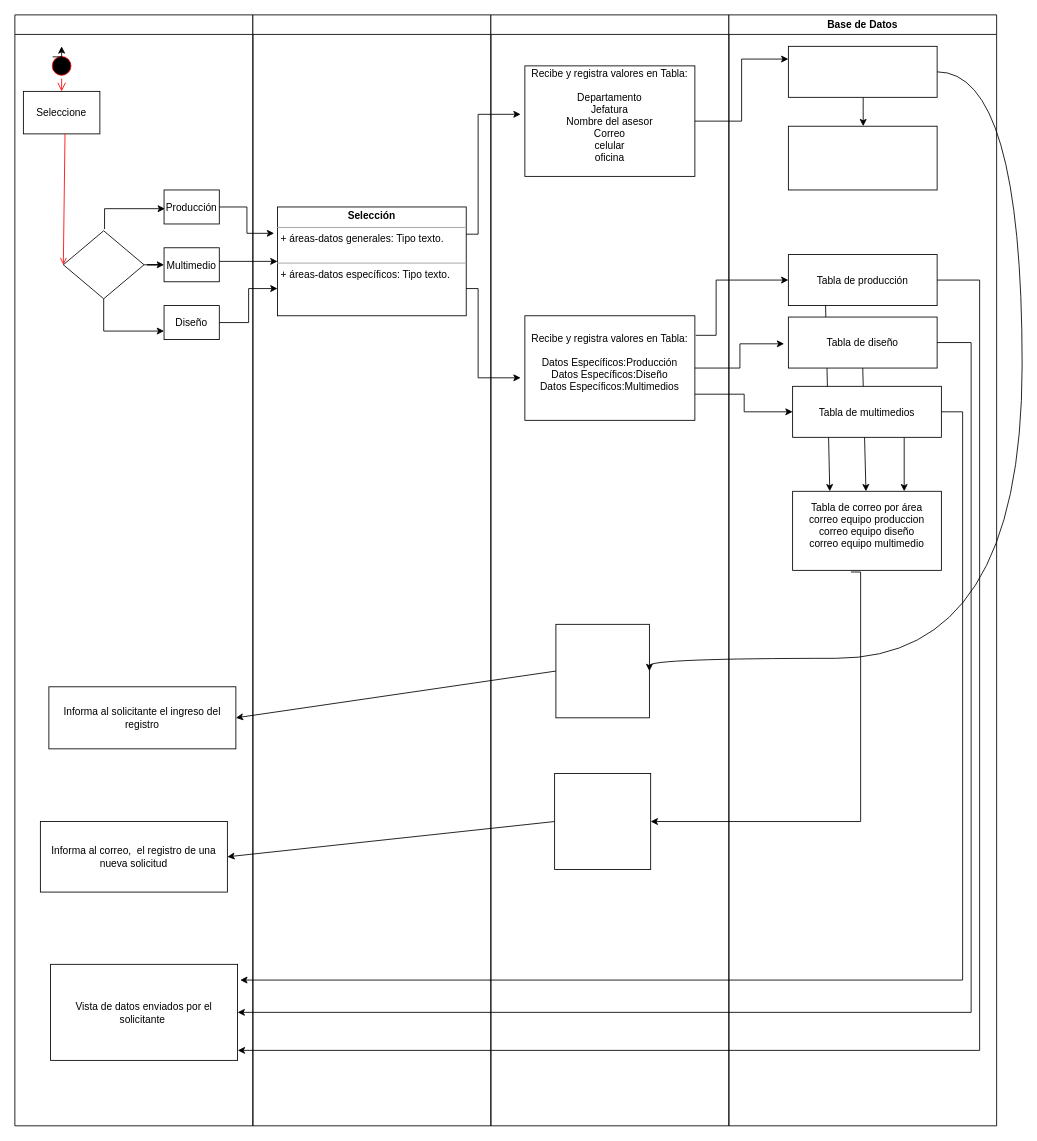
Image size: 1037x1141. Some labels were removed from this diagram. The shapes that lost their labels are listed below. From the top down, each one's box as (x1, y1, x2, y2) in pixels, then its label:
(788, 45, 937, 97): Tabla de datos generales
(788, 125, 937, 190): Tabla de áreas 1:produccion 2:diseño 3:multimedios
(62, 230, 144, 299): Tipo de solicitud
(14, 14, 253, 1126): Home (ingreso al sistema)
(252, 14, 491, 1126): JS
(490, 14, 729, 1126): PHP
(555, 623, 649, 718): Obtiene correo de solciiande y envia respuesta de notificación
(554, 773, 651, 870): Obtiene correo de equipo y envía notificación de nuevo ingreso
